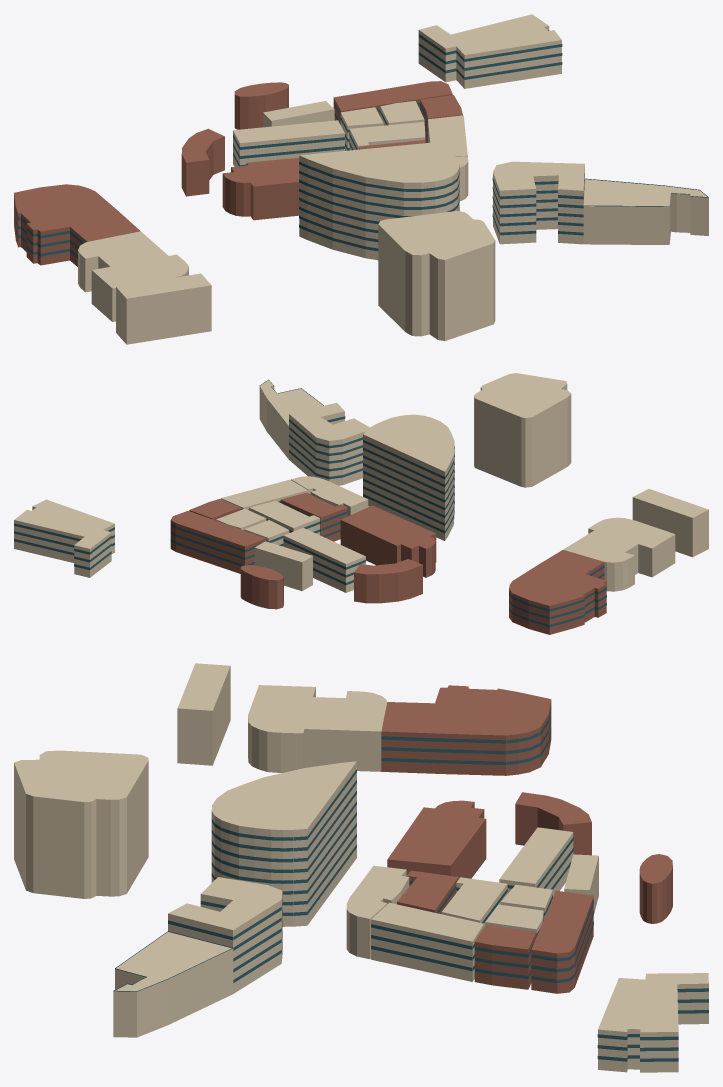
The model's file is city_-2_4.glb.
The picture shows the model from 3 angles, top to bottom: view 1: azimuth 30°, elevation 25°; view 2: azimuth 150°, elevation 25°; view 3: azimuth 270°, elevation 25°; orthographic projection. The views are drawn at different scales.
Visible parts, largest first — view 1: city_-2_4; view 2: city_-2_4; view 3: city_-2_4.
Boxes of the visible parts, left/top/right/bottom form: city_-2_4: left=14, top=14, right=708, bottom=344; city_-2_4: left=14, top=373, right=708, bottom=634; city_-2_4: left=14, top=663, right=708, bottom=1072.
Size of the model in its own units: 283 by 36 by 234.
